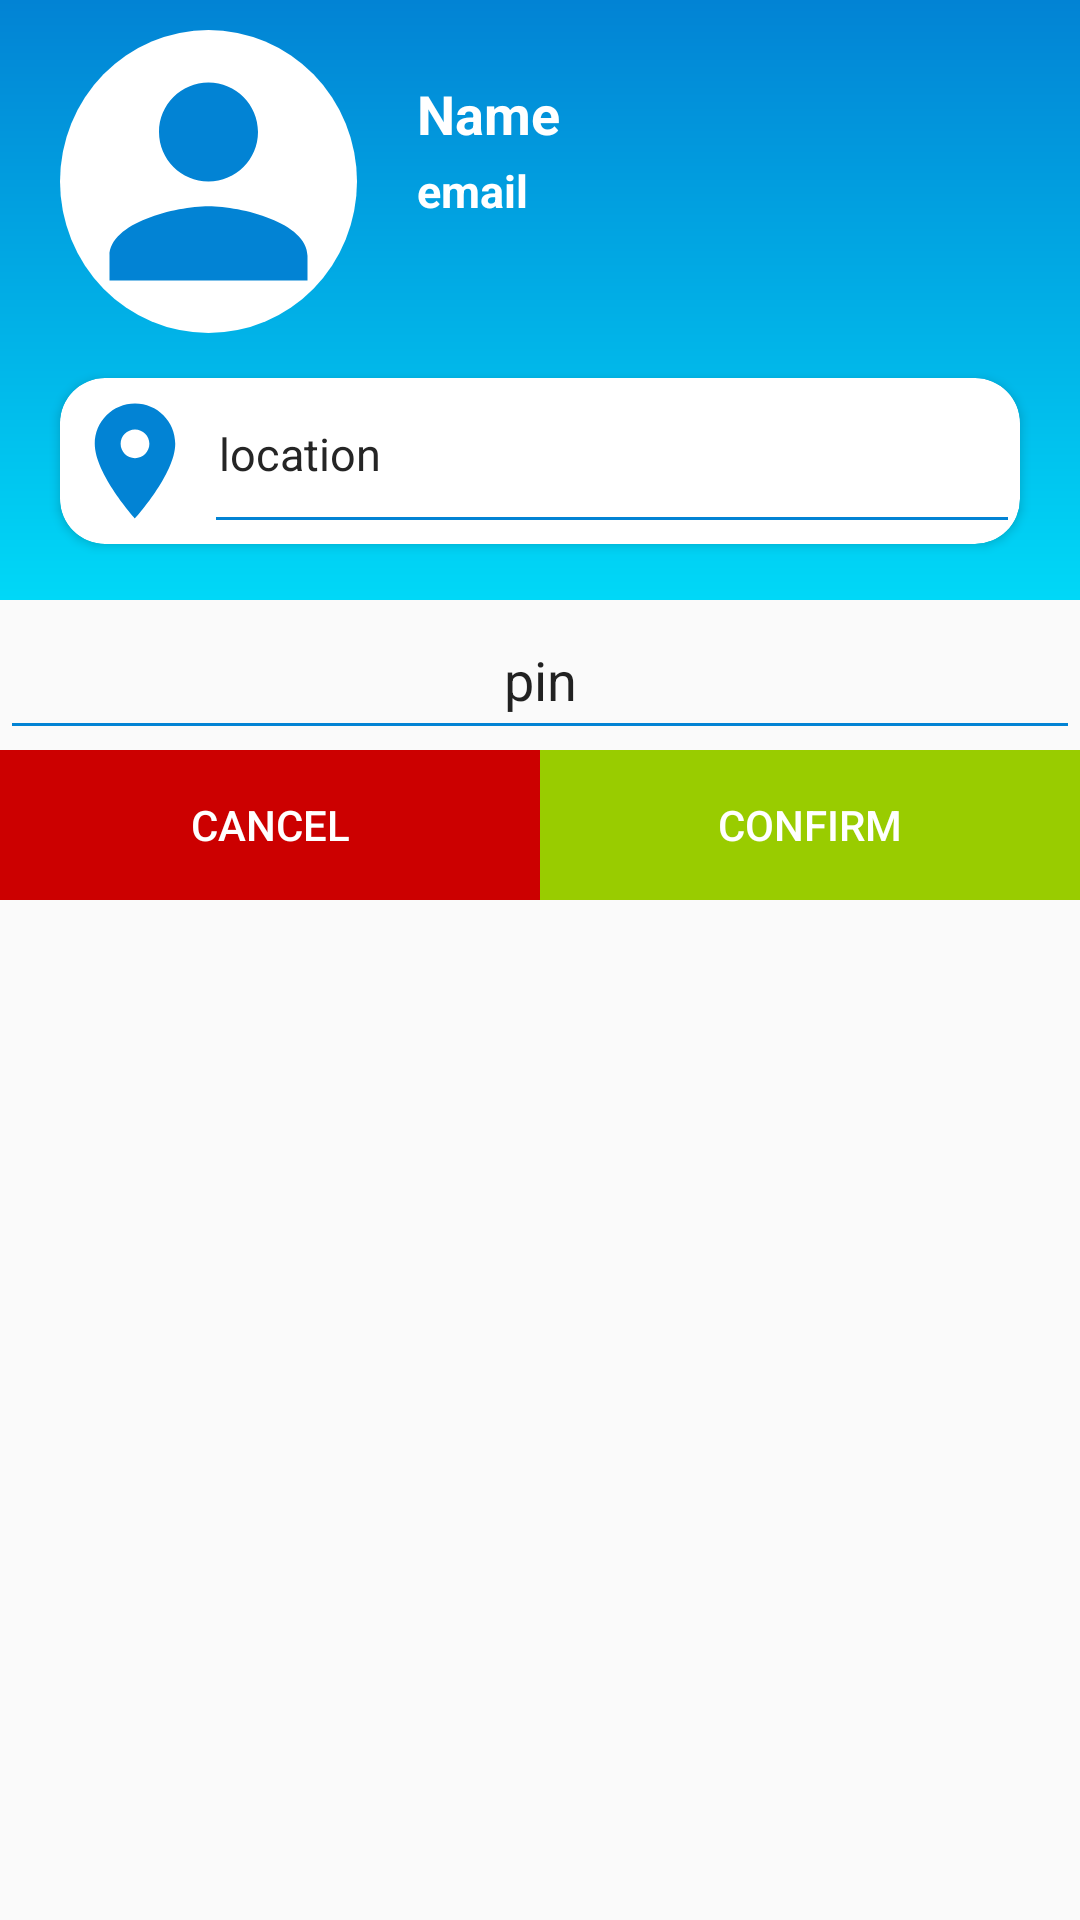

Icons on this 1080px×1920px Android screen, each with the point to tap as [x,y]:
person: [208,181]
